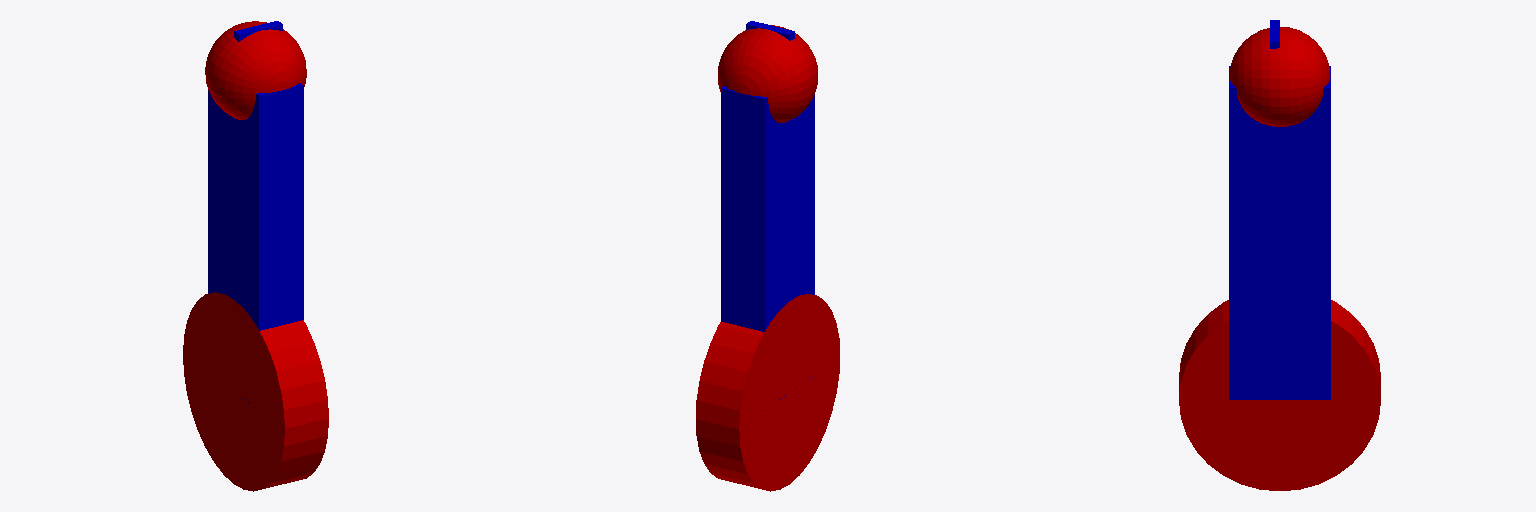
The robot description file, URDF, robot "TwoLinkStruct55906082":
<?xml version="1.0"?>
<robot  name="TwoLinkStruct55906082" >
 <material  name="blue" >
  <color  rgba="0 0 0.8 1.0" />
 </material>
 <material  name="red" >
  <color  rgba="0.8 0 0 1.0" />
 </material>
 <link  name="base_link" >
  <visual >
   <origin  rpy="0 1.5707 0"  xyz="0 0 0" />
   <material  name="red" />
   <geometry >
    <cylinder  length="0.05"  radius="0.1" />
   </geometry>
  </visual>
 </link>
 <joint  type="revolute"  name="joint1" >
  <parent  link="base_link" />
  <child  link="link1" />
  <origin  xyz="0 0 0"  rpy="0 0 0" />
  <axis  xyz="1 0 0" />
 </joint>
 <link  name="link1" >
  <inertial >
   <origin  rpy="0 0 0"  xyz="0 0 0.170120781280942" />
   <mass  value="0.6162306808911885" />
   <inertia  ixy="0.0"  iyy="0.0002567627837046619"  izz="0.006073175249165337"  ixz="0.0"  ixx="0.006073175249165337"  iyz="0.0" />
  </inertial>
  <visual >
   <origin  rpy="0 0 0"  xyz="0 0 0.170120781280942" />
   <material  name="blue" />
   <geometry >
    <box  size="0.05 0.1 0.340241562561884" />
   </geometry>
  </visual>
 </link>
 <joint  type="fixed"  name="joint-joint-1" >
  <parent  link="link1" />
  <child  link="joint-link-1" />
  <origin  xyz="0 0 0.340241562561884"  rpy="1.5707 0 0" />
  <axis  xyz="1 0 0" />
 </joint>
 <link  name="joint-link-1" >
  <inertial >
   <origin  rpy="0 0 0"  xyz="0 0 0" />
   <mass  value="5.0" />
   <inertia  ixy="0"  iyy="0"  izz="0"  ixz="0"  ixx="0"  iyz="0" />
  </inertial>
  <visual >
   <origin  rpy="0 0 0"  xyz="0 0 0" />
   <material  name="red" />
   <geometry >
    <sphere  radius="0.05" />
   </geometry>
  </visual>
 </link>
 <joint  type="revolute"  name="joint2" >
  <parent  link="link1" />
  <child  link="link2" />
  <origin  xyz="0 0 0.340241562561884"  rpy="1.5707 0 0" />
  <axis  xyz="1 0 0" />
 </joint>
 <link  name="link2" >
  <inertial >
   <origin  rpy="0 0 0"  xyz="0 0 0.005" />
   <mass  value="0.028628268241882325" />
   <inertia  ixy="0.0"  iyy="0.0002567627837046619"  izz="0.0001335166475264242"  ixz="0.0"  ixx="0.0001335166475264242"  iyz="0.0" />
  </inertial>
  <visual >
   <origin  rpy="0 0 0"  xyz="0 0 0.005" />
   <material  name="blue" />
   <geometry >
    <box  size="0.05 0.1 0.01" />
   </geometry>
  </visual>
 </link>
 <joint  type="fixed"  name="eef_joint" >
  <parent  link="link2" />
  <child  link="eef" />
  <origin  xyz="0 0 0.01"  rpy="0 0 0" />
 </joint>
 <link  name="eef" >
  <inertial >
   <origin  rpy="0 0 0"  xyz="0 0 0" />
   <mass  value="1" />
   <inertia  ixy="0"  iyy="0"  izz="0"  ixz="0"  ixx="0"  iyz="0" />
  </inertial>
 </link>
 <transmission  name="motor1" >
  <type  xmltext="SimpleTransmission" >
   SimpleTransmission
  </type>
  <actuator  name="motor1" >
   <mechanicalreduction  xmltext="1" >
    1
   </mechanicalreduction>
  </actuator>
  <joint  name="joint1" />
 </transmission>
 <transmission  name="motor2" >
  <type  xmltext="SimpleTransmission" >
   SimpleTransmission
  </type>
  <actuator  name="motor2" >
   <mechanicalreduction  xmltext="1" >
    1
   </mechanicalreduction>
  </actuator>
  <joint  name="joint2" />
 </transmission>
</robot>

<!-- {'carti': array([-0.1 ,  0.14,  0.85]), 'cartd': array([-0.1 ,  0.32,  1.29]), 'tau_mu': 0.6659076416316843, 'b0': 0.19283185912399856, 'Km': 0.6480746941257081, 'k_velocity': 100.0, 'tau_max_m': 4.102750354039386, 'omega_max_m': 3155.572965508004, 'gear_ratio': 0.1, 'Kp': 100.0, 'Kd': 59.90905437522102, 'm_m': 5.0, 'l1': 0.340241562561884, 'l2': 0.01, 'k1': 11141.138977584005, 'k2': 269422645.8963032, 'k3': 0.0}-->

--- What the picture shows (computed from the rendered views, not written in the file) ---
The picture shows the robot from 3 angles, left to right: view 1: azimuth 30°, elevation 25°; view 2: azimuth 150°, elevation 25°; view 3: azimuth 270°, elevation 25°; orthographic projection.
Model TwoLinkStruct55906082 with 5 links and 4 joints (2 revolute, 2 fixed), rooted at base_link, posed every joint at zero.
Links seen in each view (by area): view 1: base_link, link1, joint-link-1; view 2: base_link, link1, joint-link-1; view 3: link1, base_link, joint-link-1.
Boxes of the visible links, x1,y1,x2,y2 form: base_link: [183, 292, 328, 491]; link1: [208, 83, 303, 407]; joint-link-1: [205, 21, 306, 119]; base_link: [696, 294, 839, 491]; link1: [721, 86, 814, 410]; joint-link-1: [718, 25, 817, 122]; link1: [1229, 66, 1330, 399]; base_link: [1179, 300, 1380, 490]; joint-link-1: [1229, 27, 1330, 126].
Bounding box of the posed robot: 0.1 × 0.2 × 0.4902 m (x, y, z).
Geometry: primitives only (box / cylinder / sphere), no mesh files.
